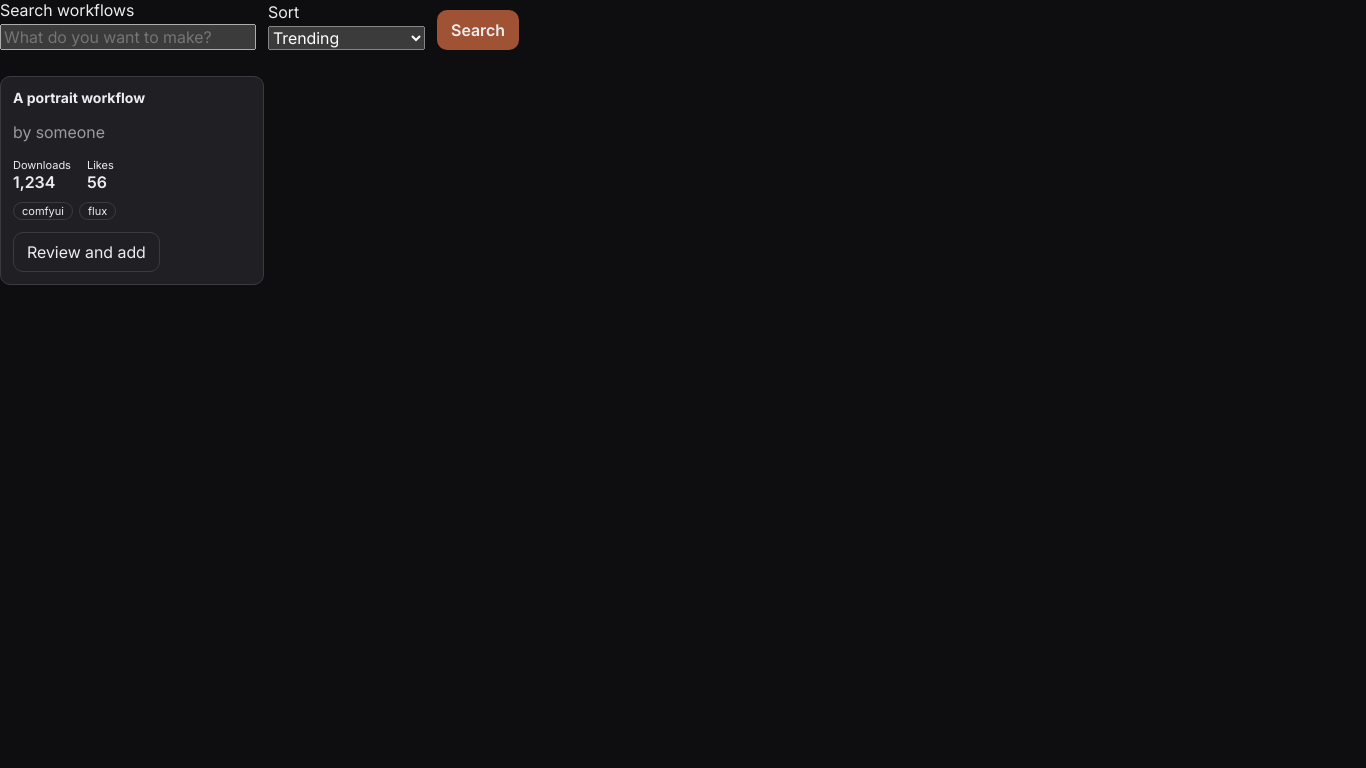
Test case: imports the fetched graph itself and says so once it is added
The image size is (1366, 768).
Click the button "Review and add" at (86, 252), box x1=13 y1=232 x2=160 y2=272
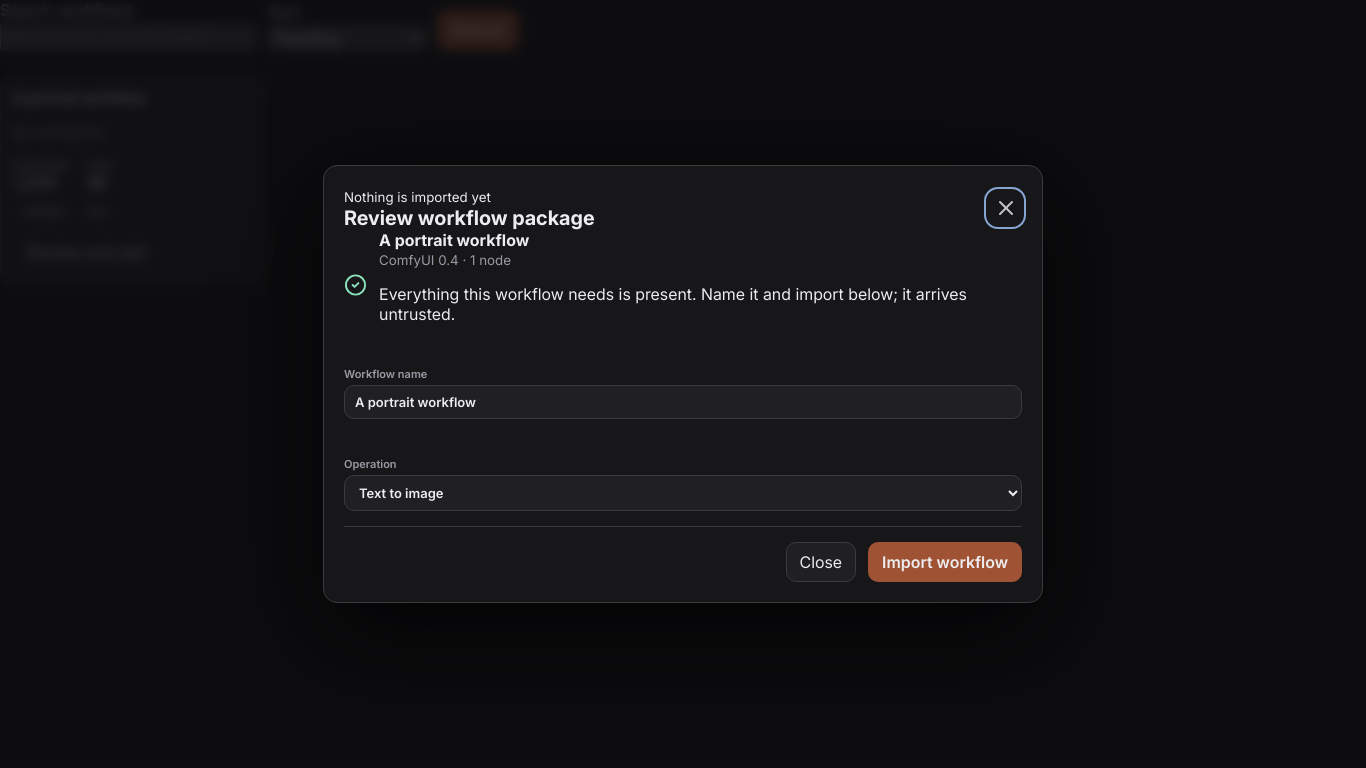
Click the button "Import workflow" at (945, 562), box x1=868 y1=542 x2=1022 y2=582
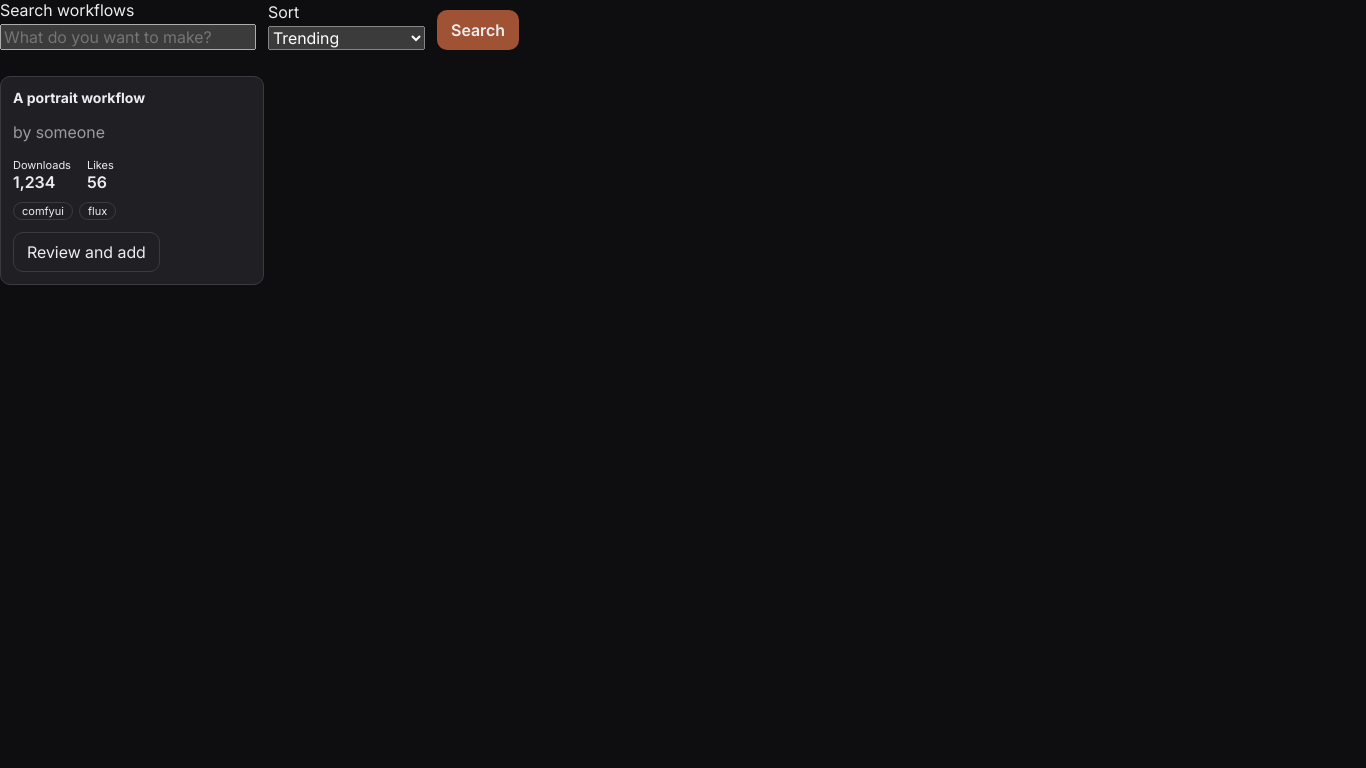
expect the dialog is gone: met
